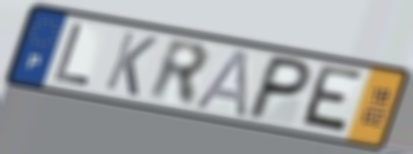A: (192, 47, 253, 121)
E: (295, 62, 366, 138)
K: (101, 29, 161, 100)
L: (51, 21, 94, 88)
P: (241, 53, 316, 123)
R: (146, 35, 213, 110)
